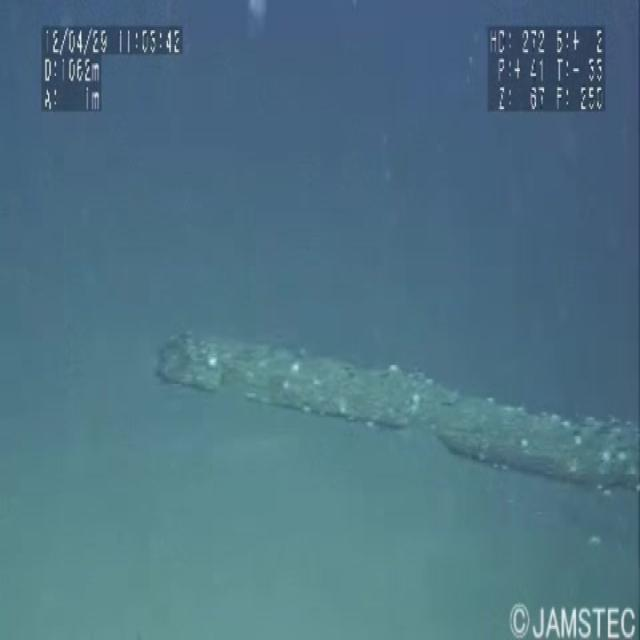Wood: (152, 273, 640, 539)
